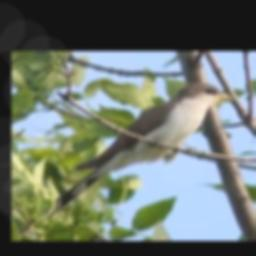Cuckoo: (43, 83, 235, 218)
